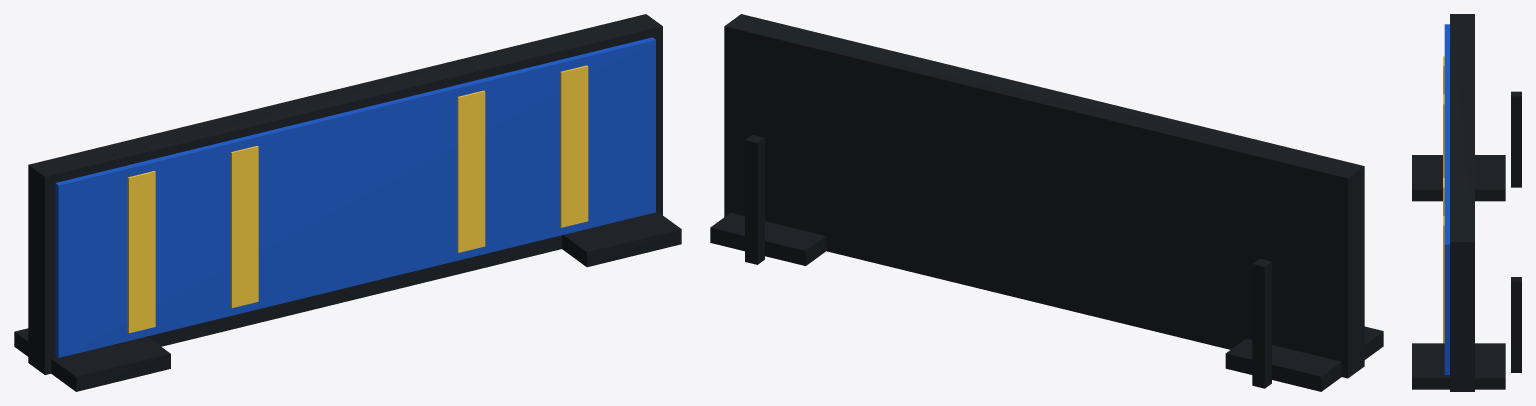
The model's file is ad_board_lod0.glb.
The picture shows the model from 3 angles, left to right: view 1: azimuth 30°, elevation 25°; view 2: azimuth 150°, elevation 25°; view 3: azimuth 270°, elevation 25°; orthographic projection. The views are drawn at different scales.
Visible parts, largest first — view 1: ad_board_mesh; view 2: ad_board_mesh; view 3: ad_board_mesh.
Part boxes in pixels (x1=…): ad_board_mesh: x1=14, y1=14, x2=681, y2=391; ad_board_mesh: x1=710, y1=14, x2=1383, y2=391; ad_board_mesh: x1=1412, y1=14, x2=1521, y2=391.
Size of the model in its own units: 3 by 0.92 by 0.61.
